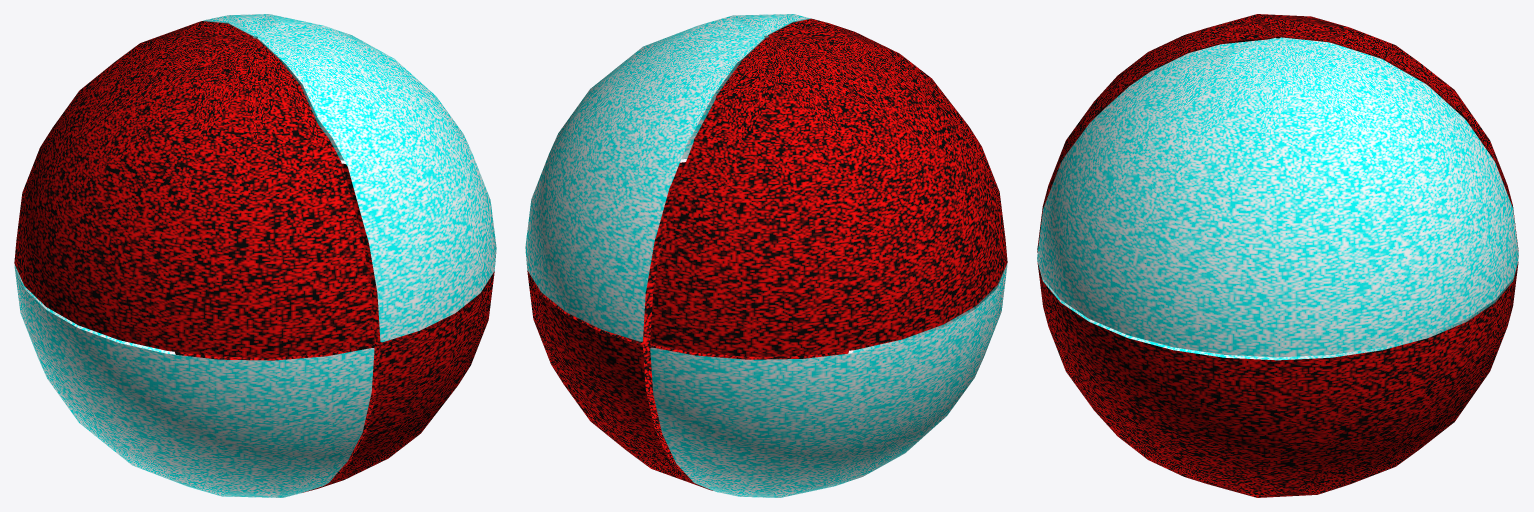
File: SM_Sphere_02_KMH.fbx
3 views of the same model, side by side, from view 1: azimuth 30°, elevation 25°; view 2: azimuth 150°, elevation 25°; view 3: azimuth 270°, elevation 25° (orthographic).
Parts seen in each view (by area): view 1: SM_Sphere_02_KMH; view 2: SM_Sphere_02_KMH; view 3: SM_Sphere_02_KMH.
Boxes of the visible parts, bbox=[...] form: SM_Sphere_02_KMH: bbox=[14, 14, 496, 497]; SM_Sphere_02_KMH: bbox=[525, 14, 1007, 497]; SM_Sphere_02_KMH: bbox=[1037, 14, 1518, 497].
Bounding box in the file's own units: 60 × 60 × 60.
